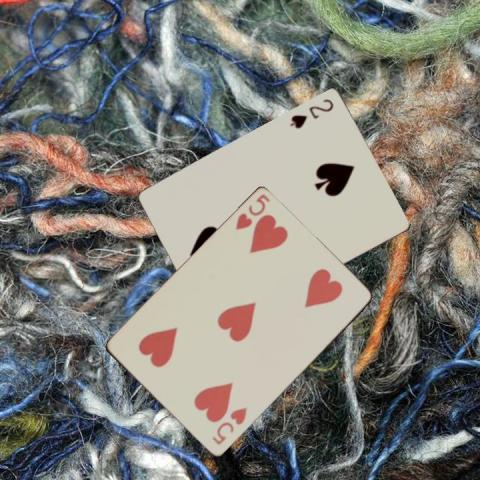2s: (287, 96, 336, 131)
5h: (209, 404, 249, 446), (232, 191, 271, 233)
